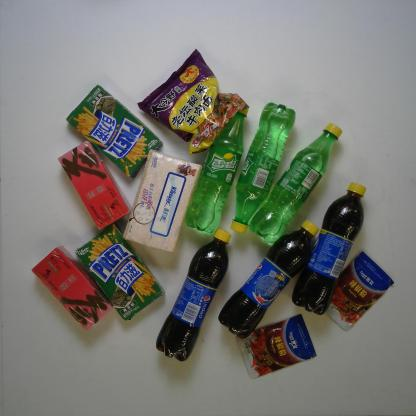Dessert: (65, 83, 164, 181), (75, 221, 166, 322)
Drink: (218, 218, 320, 340), (248, 116, 344, 245), (292, 180, 368, 316), (156, 228, 232, 362), (228, 102, 296, 235), (186, 100, 250, 236)
Instant Drink: (31, 244, 113, 333), (57, 139, 134, 231)
Instant Noodles: (136, 48, 250, 155)
Seasoner: (324, 251, 396, 333), (236, 314, 316, 380)
Tissue: (122, 148, 202, 254)
